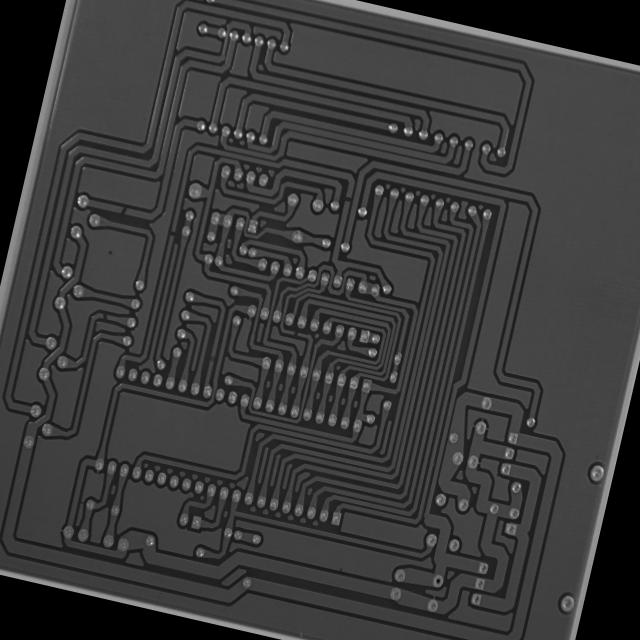open_circuit: (116, 204, 128, 218), (98, 310, 110, 323), (341, 194, 352, 206), (166, 228, 176, 240), (290, 327, 300, 338)
